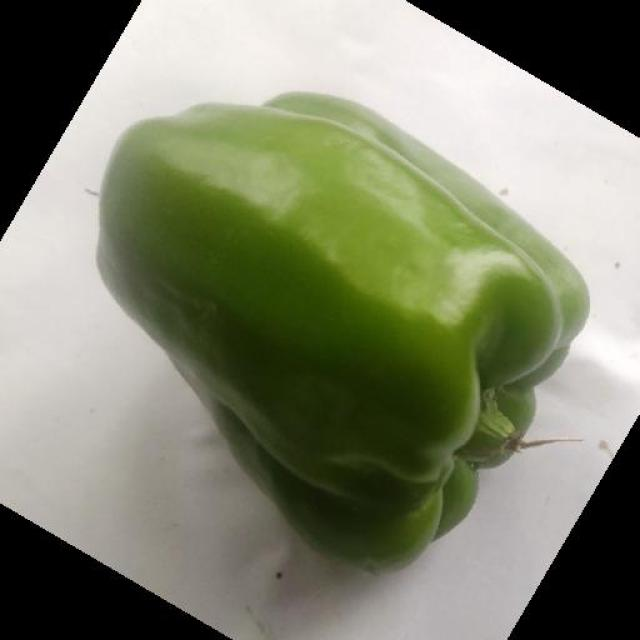Fresh_Capsicum: (153, 100, 459, 461)
